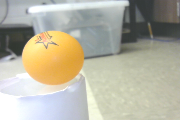PingPongBall: (23, 31, 84, 85)
